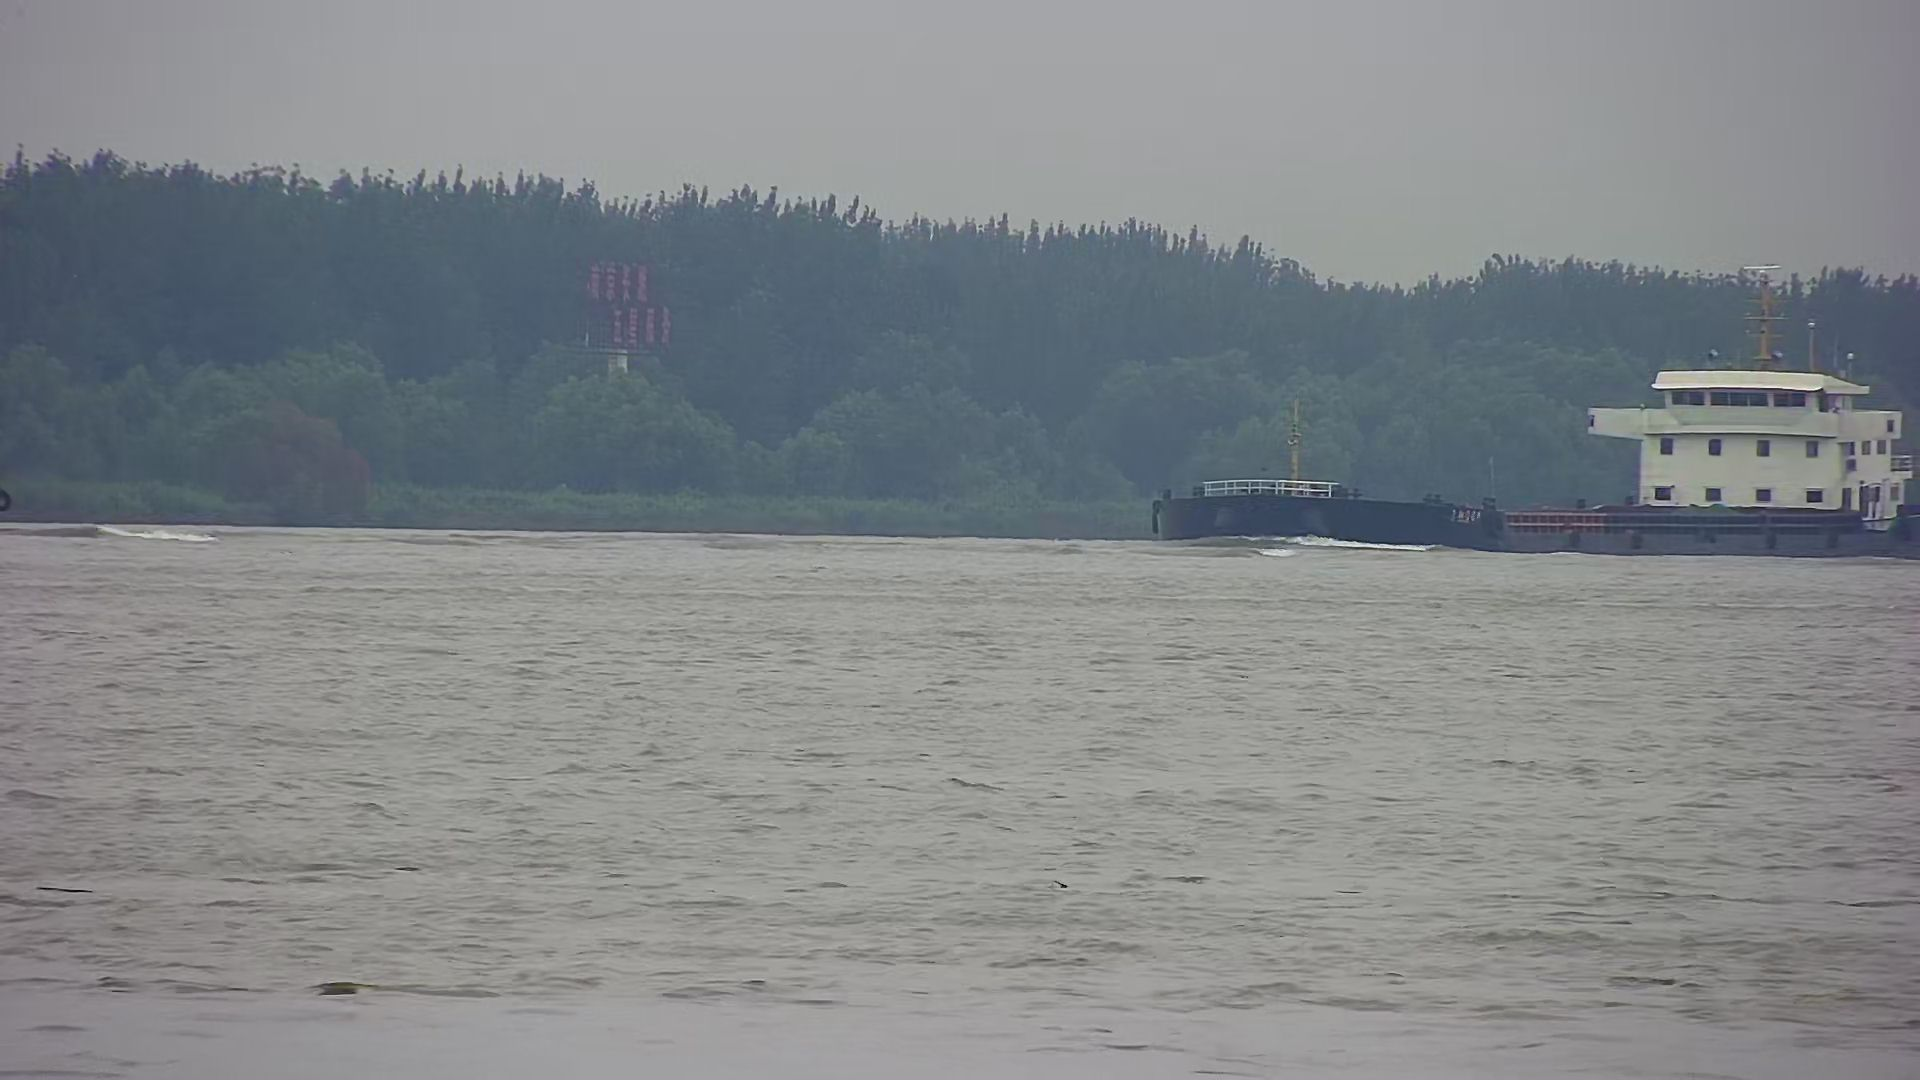ship: (1146, 258, 1920, 560)
